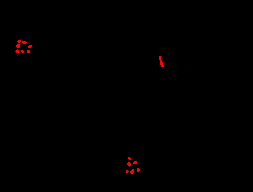Target: (159, 56, 164, 67), (127, 162, 131, 167), (130, 169, 134, 174), (16, 44, 20, 48), (15, 49, 19, 53), (22, 41, 27, 44), (17, 40, 21, 43), (28, 45, 32, 48), (133, 161, 137, 164), (137, 168, 140, 172), (21, 50, 24, 53), (27, 50, 30, 53), (128, 157, 131, 160), (126, 170, 129, 173)
